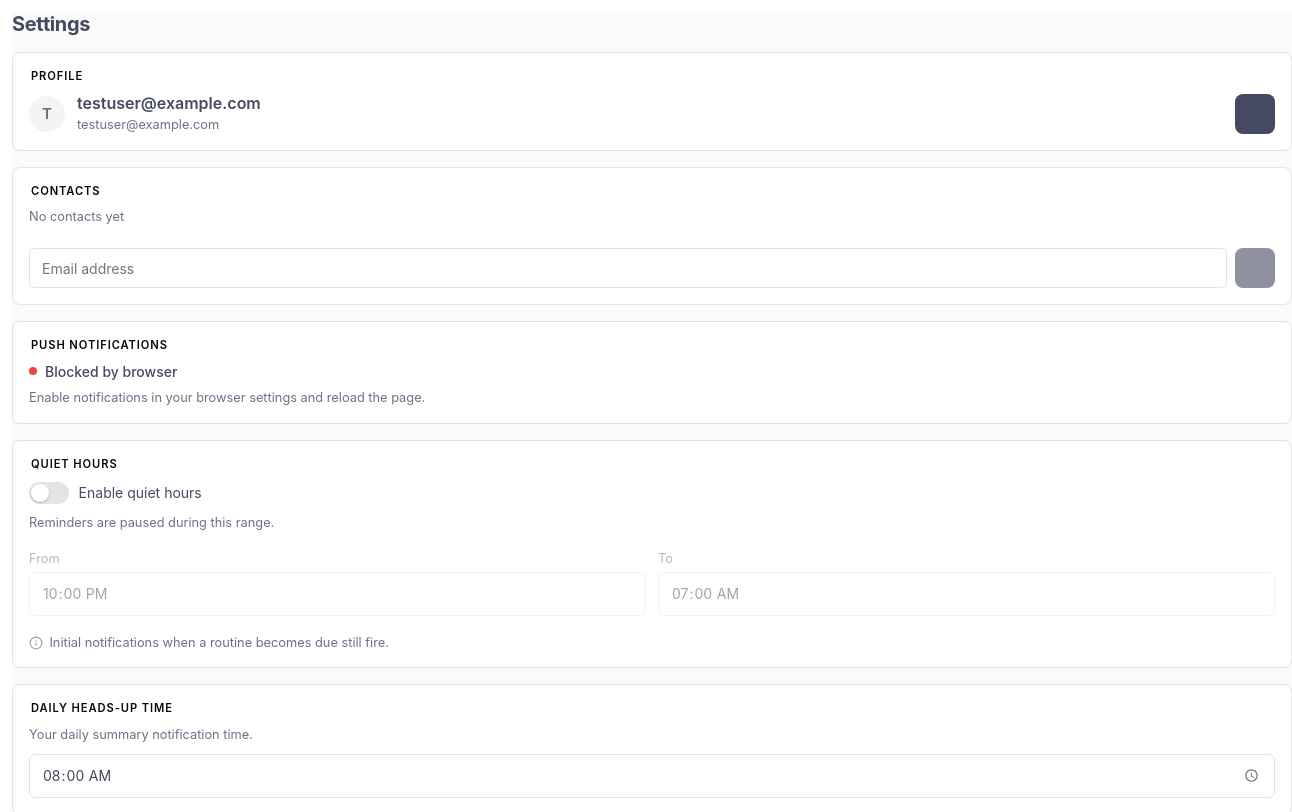
SettingsPage › shows "Action not available offline" when add contact hits a network error
The image size is (1292, 812).
Expected: the text "Contacts" is shown, [31,184,100,198]
Type "bob@example.com" into the field with test id "add-contact-email" at (628, 268), box [29,248,1227,288]
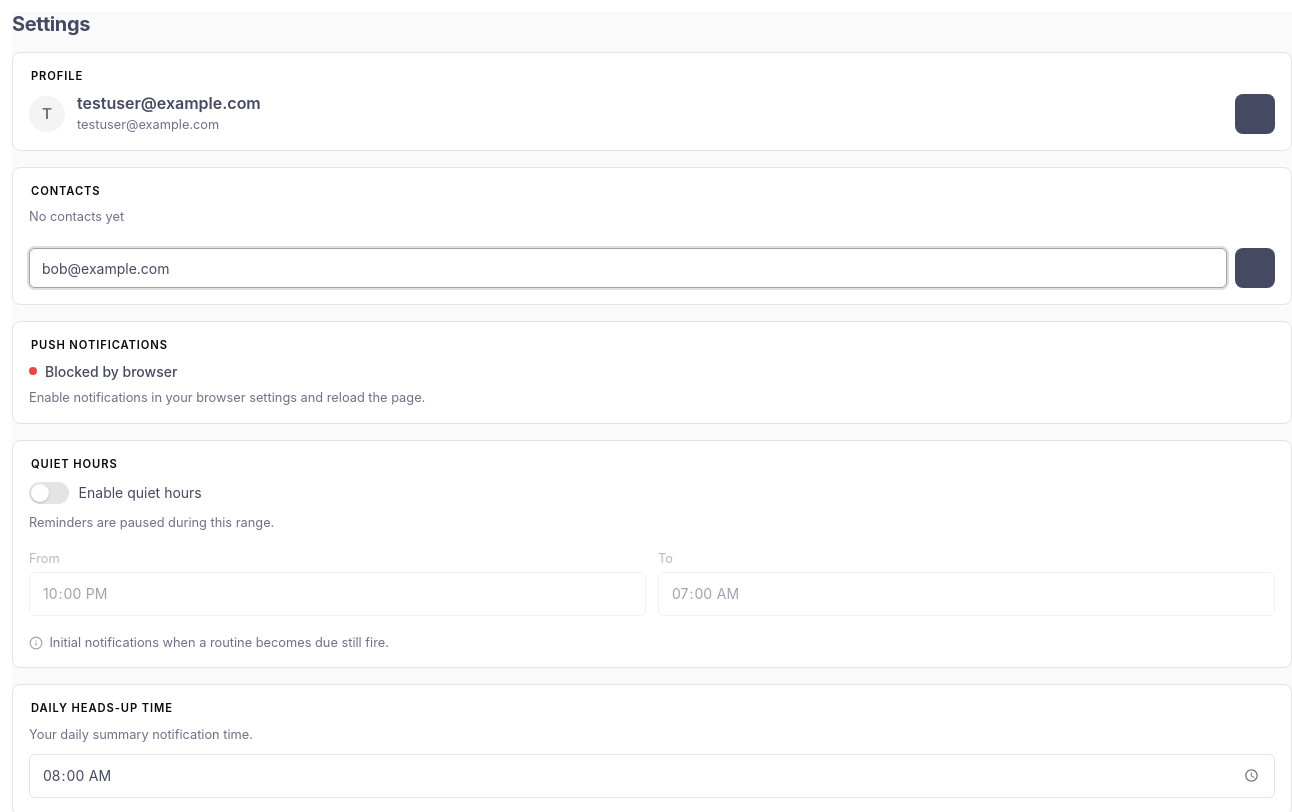
Click the button with test id "add-contact-submit" at (1255, 268), box [1235,248,1275,288]
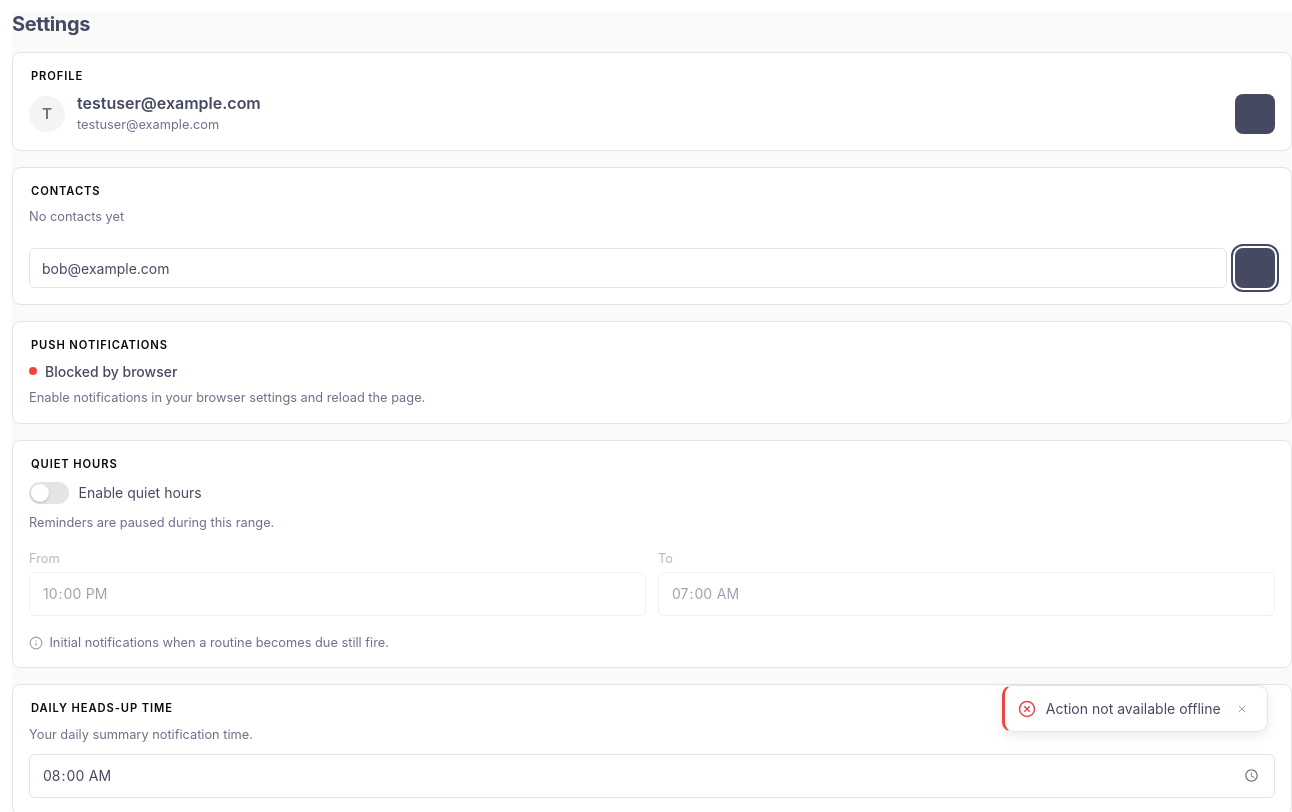
Result: the text "Action not available offline" is shown at [1046,700,1221,718]
